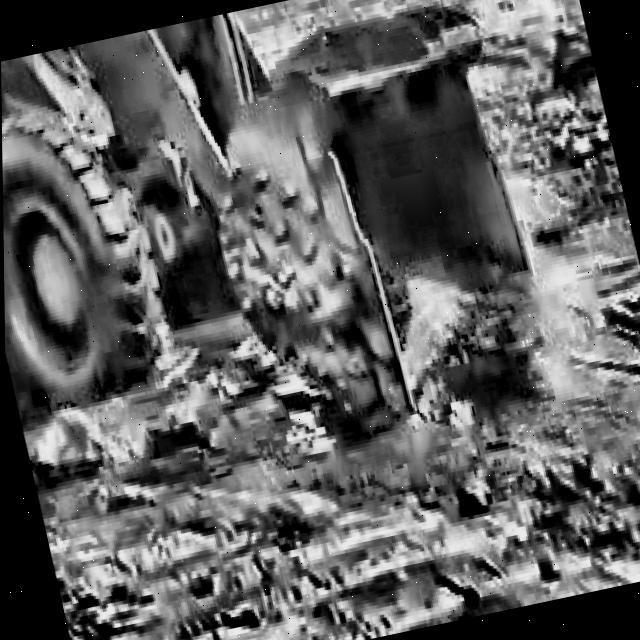buldozerpayloadergrader: (0, 0, 577, 491)
